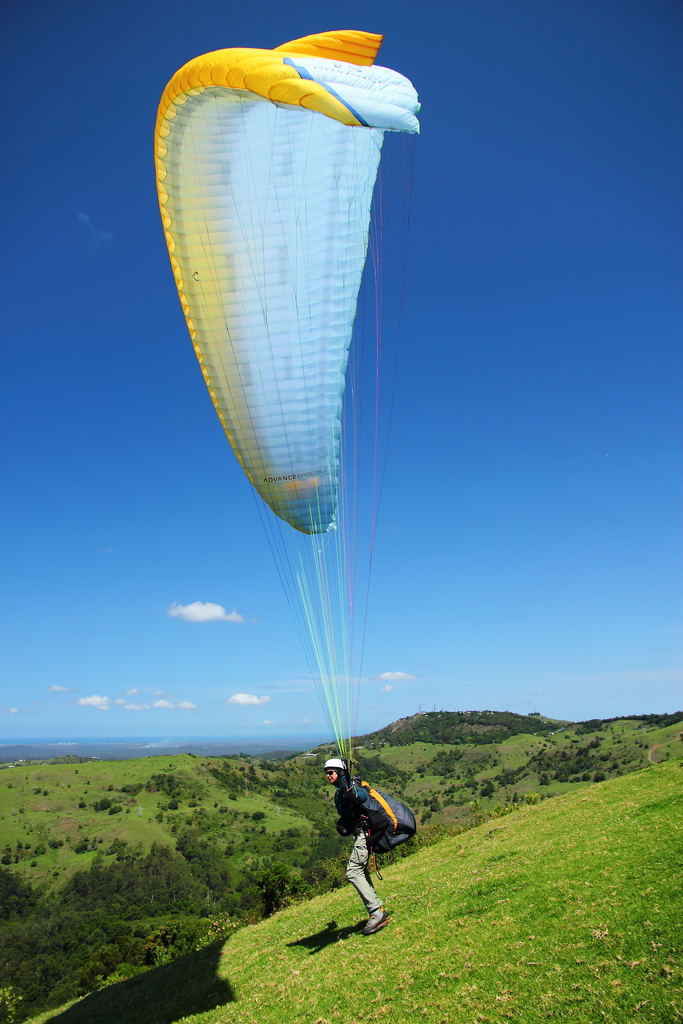Tree: (0, 867, 226, 1023)
